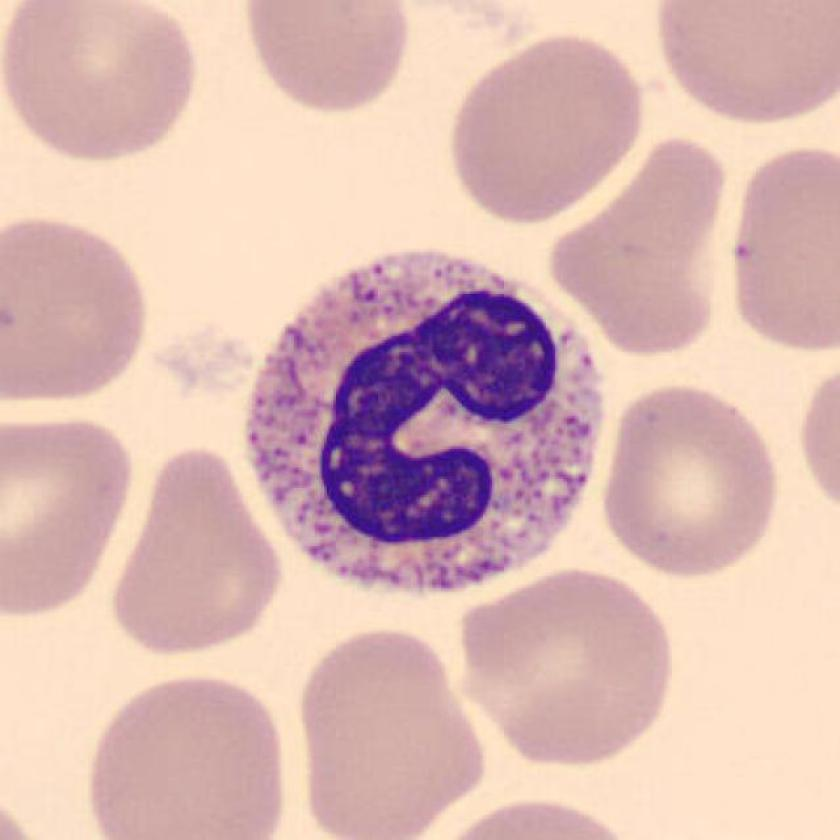neutrophil: (246, 251, 601, 591)
